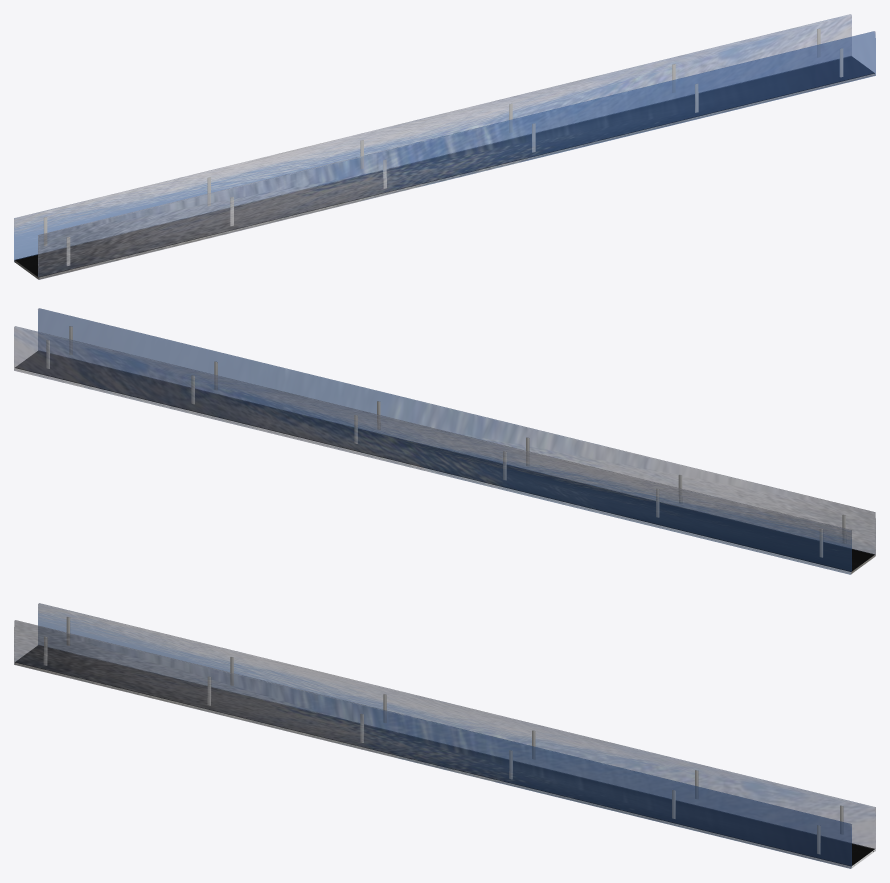
File: passarela2.fbx
The picture shows the model from 3 angles, top to bottom: view 1: azimuth 30°, elevation 25°; view 2: azimuth 150°, elevation 25°; view 3: azimuth 330°, elevation 25°; orthographic projection.
Visible parts, largest first — view 1: Cube_008, Cube_001, Cube; view 2: Cube_001, Cube_008, Cube; view 3: Cube_008, Cube_001, Cube.
Part boxes in pixels (bbox=[...]): Cube_008: bbox=[38, 31, 875, 279]; Cube_001: bbox=[14, 14, 851, 261]; Cube: bbox=[14, 56, 875, 279]; Cube_001: bbox=[14, 326, 851, 574]; Cube_008: bbox=[38, 308, 875, 555]; Cube: bbox=[14, 351, 875, 574]; Cube_008: bbox=[14, 620, 851, 868]; Cube_001: bbox=[38, 603, 875, 850]; Cube: bbox=[14, 645, 875, 868].
Size of the model in its own units: 40 by 2.02 by 2.09.
